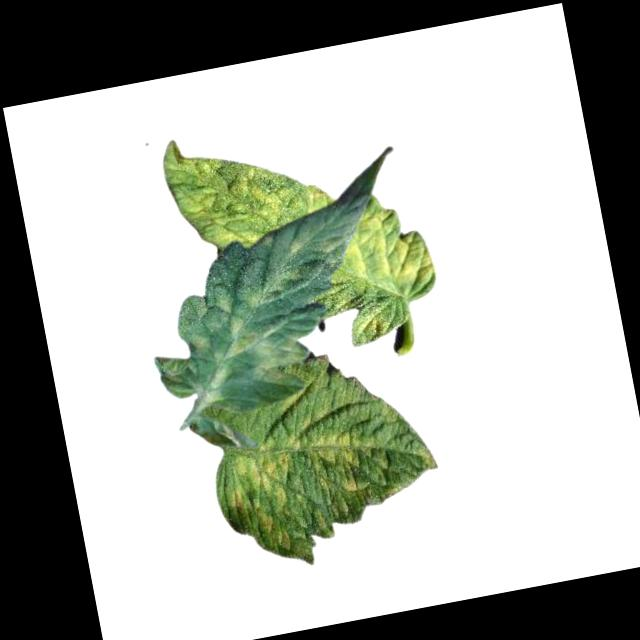Leaf_Mold: (211, 405, 453, 580), (152, 113, 337, 257), (182, 262, 321, 404), (334, 188, 440, 313)
